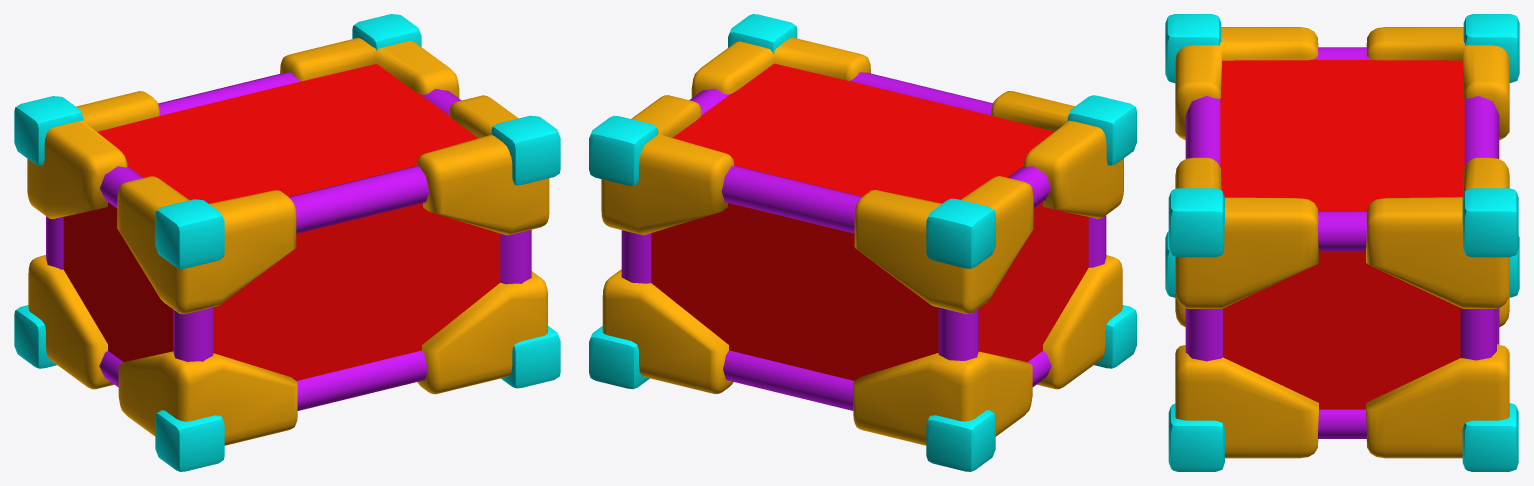
3 views of the same model, side by side, from view 1: azimuth 30°, elevation 25°; view 2: azimuth 150°, elevation 25°; view 3: azimuth 270°, elevation 25° (orthographic). The views are drawn at different scales.
Parts seen in each view (by area): view 1: box_low, edge_low, cube_low, curve_low; view 2: box_low, edge_low, cube_low, curve_low; view 3: box_low, edge_low, cube_low, curve_low.
Boxes of the visible parts, bbox=[...] form: box_low: bbox=[63, 64, 500, 380]; edge_low: bbox=[27, 37, 549, 445]; cube_low: bbox=[14, 14, 560, 471]; curve_low: bbox=[46, 72, 531, 410]; box_low: bbox=[651, 63, 1088, 380]; edge_low: bbox=[601, 37, 1123, 445]; cube_low: bbox=[589, 14, 1136, 471]; curve_low: bbox=[621, 72, 1106, 410]; box_low: bbox=[1220, 60, 1464, 409]; edge_low: bbox=[1175, 27, 1509, 458]; cube_low: bbox=[1165, 14, 1519, 471]; curve_low: bbox=[1185, 47, 1499, 438].
Size of the model in its own units: 42.7 by 26.43 by 32.06.
